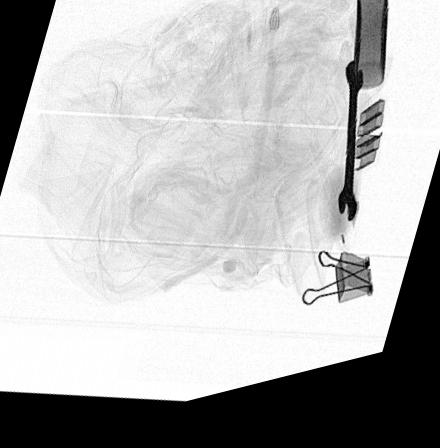Wrench: (337, 77, 362, 238)
